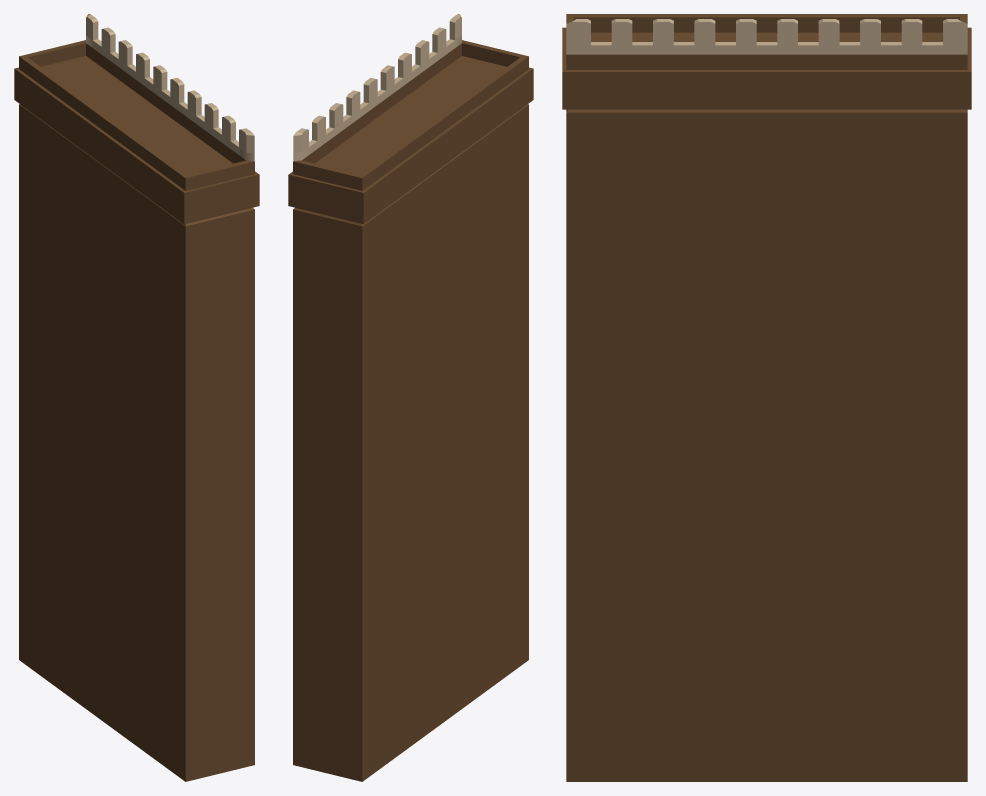
The model's file is SM_wall_part_01.fbx.
3 views of the same model, side by side, from view 1: azimuth 30°, elevation 25°; view 2: azimuth 150°, elevation 25°; view 3: azimuth 270°, elevation 25° (orthographic). The views are drawn at different scales.
Visible parts, largest first — view 1: wall_part_01; view 2: wall_part_01; view 3: wall_part_01.
Boxes of the visible parts, left/top/right/bottom form: wall_part_01: left=14, top=14, right=259, bottom=781; wall_part_01: left=288, top=14, right=533, bottom=781; wall_part_01: left=562, top=14, right=971, bottom=781.
Size of the model in its own units: 130 by 1044 by 510.
